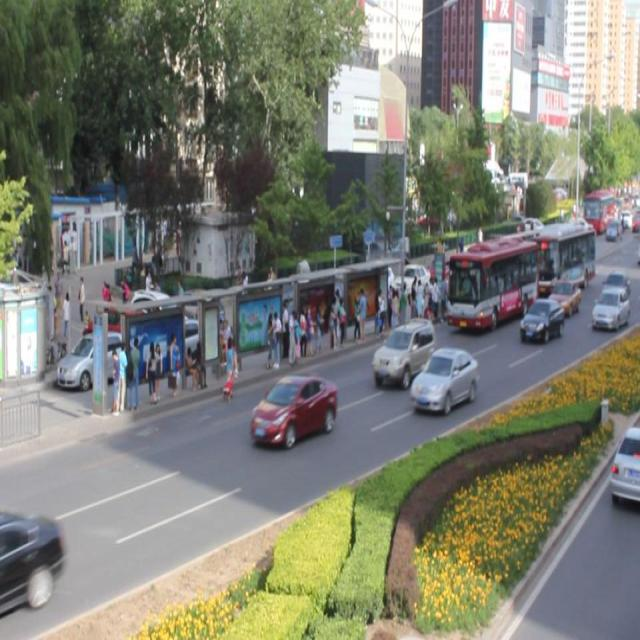car: (250, 372, 337, 446), (409, 345, 477, 410), (372, 318, 434, 382), (518, 294, 563, 340), (590, 284, 628, 328), (545, 279, 580, 315), (600, 269, 630, 305)
van: (447, 236, 536, 328), (524, 218, 592, 296)
